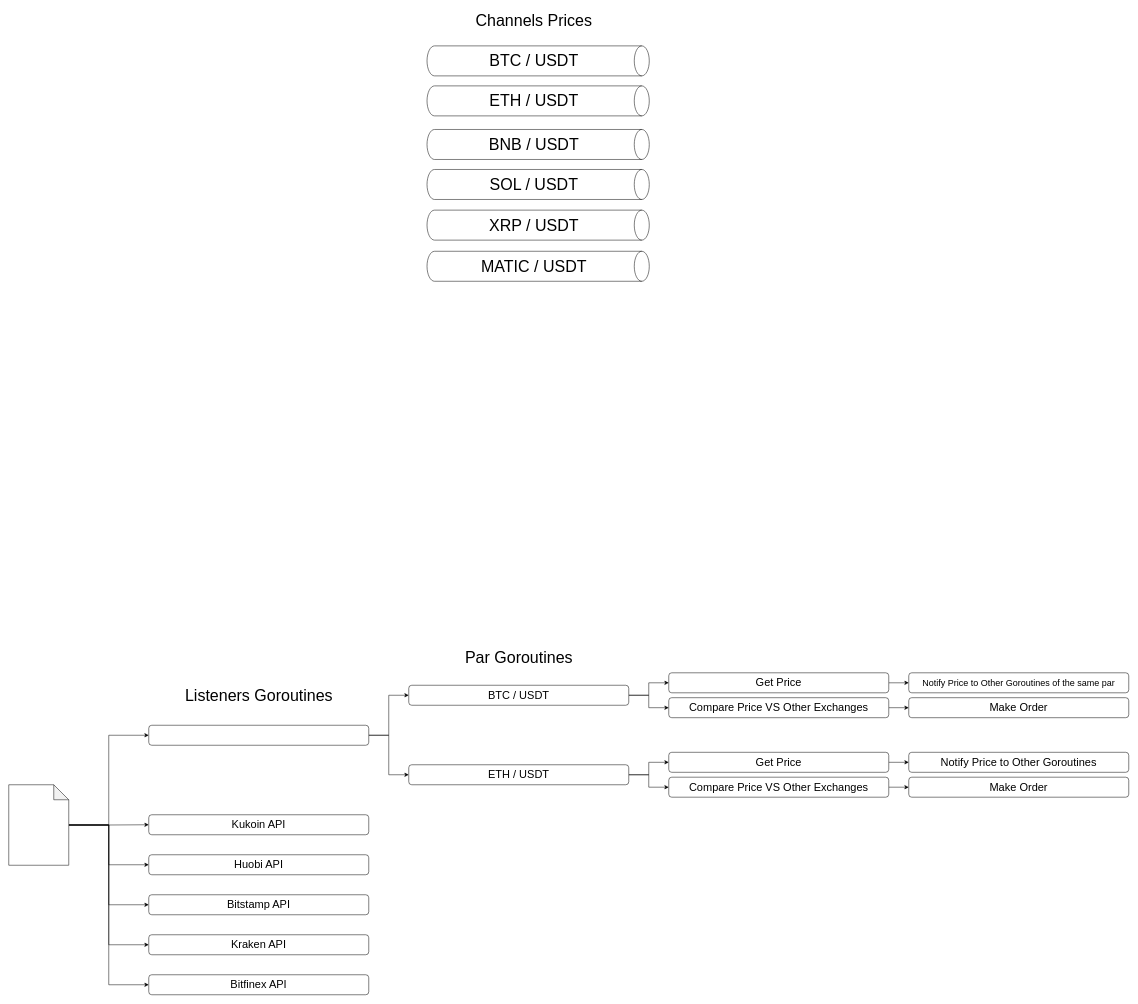
Image size: 1138x1004. Some labels were removed from this diagram. Here are the shapes that lost their labels. From the top down, the centre of each, then its label:
the point at 258,735: Binance API
the point at 38,824: Go main
